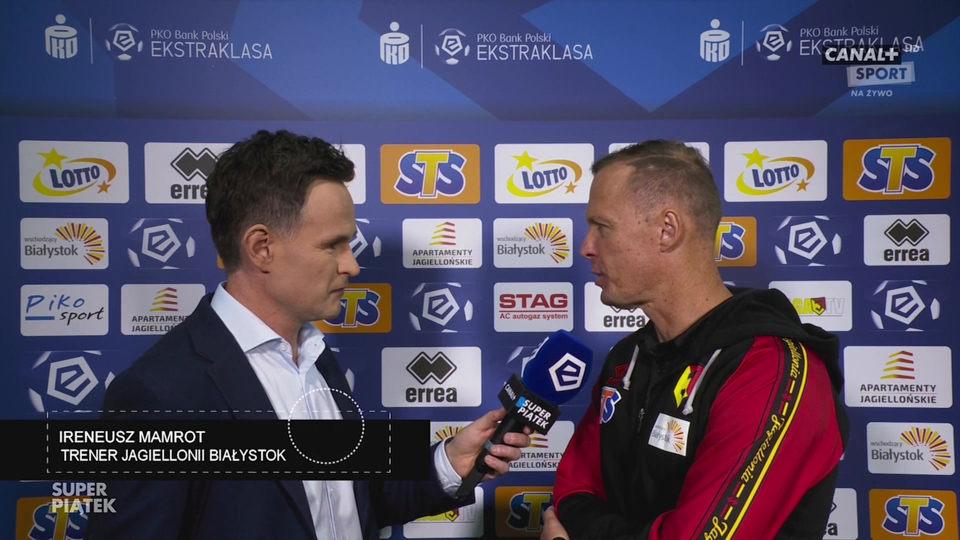pko: (38, 6, 79, 63), (696, 17, 734, 64), (374, 20, 411, 65)
